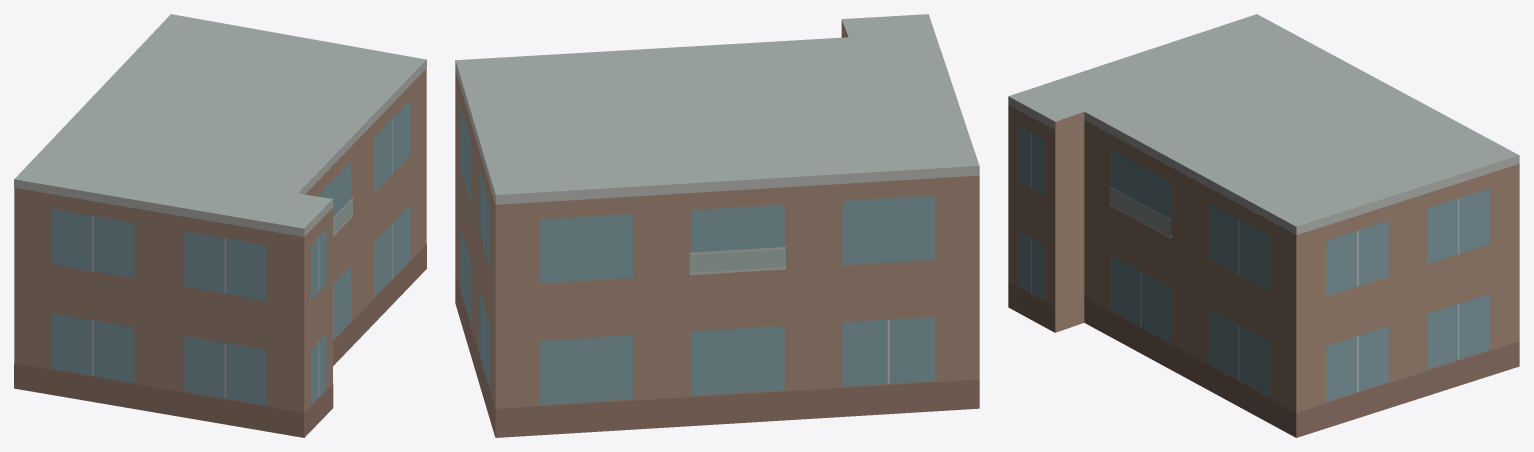
File: survey-upis-32965712.glb
3 views of the same model, side by side, from view 1: azimuth 30°, elevation 25°; view 2: azimuth 150°, elevation 25°; view 3: azimuth 270°, elevation 25° (orthographic). The views are drawn at different scales.
Visible parts, largest first — view 1: survey-upis-32965712.tmp; view 2: survey-upis-32965712.tmp; view 3: survey-upis-32965712.tmp.
Boxes of the visible parts, left/top/right/bottom form: survey-upis-32965712.tmp: left=14, top=14, right=426, bottom=437; survey-upis-32965712.tmp: left=455, top=14, right=979, bottom=437; survey-upis-32965712.tmp: left=1008, top=14, right=1519, bottom=437.
Size of the model in its own units: 13.2 by 6.1 by 13.4.
